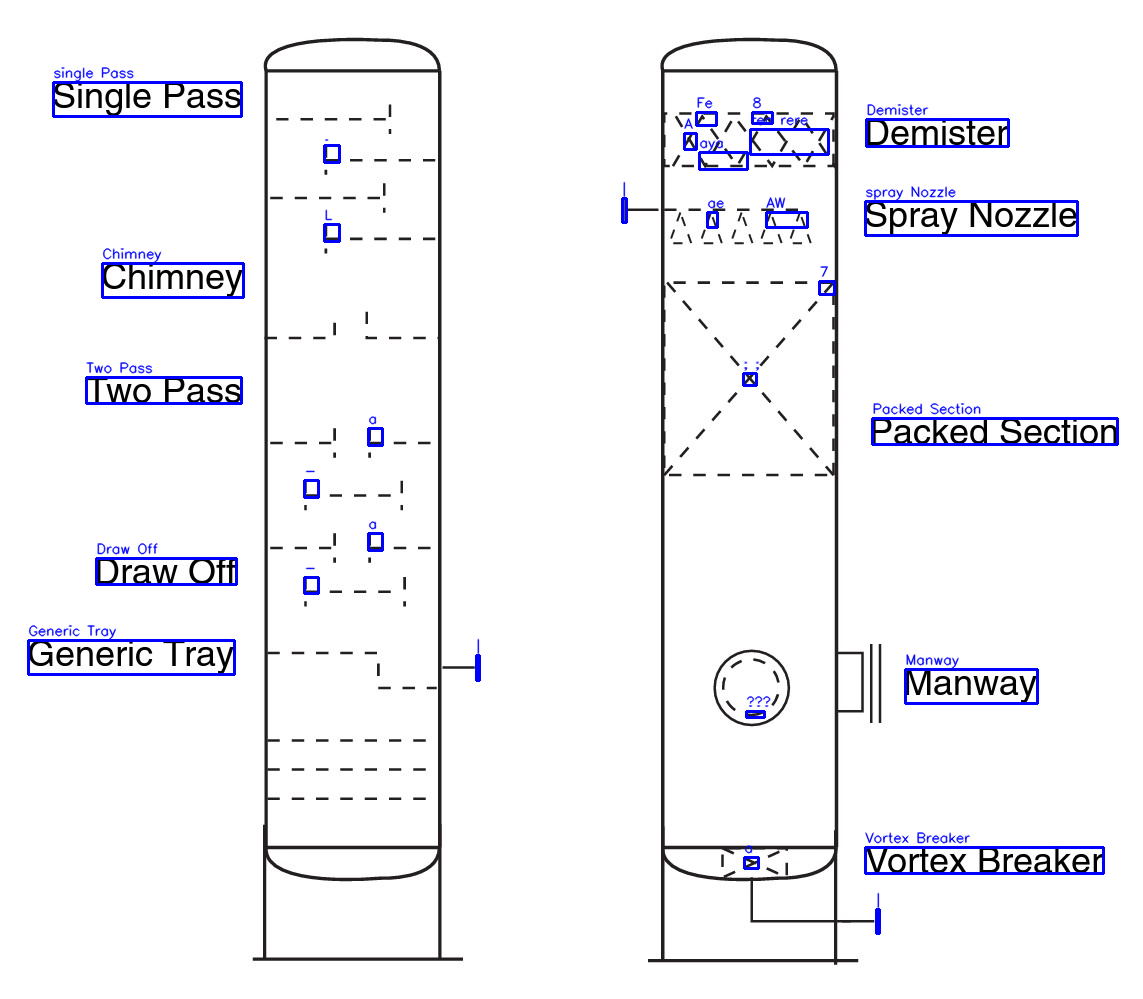Outro: (607, 30, 892, 974), (231, 30, 482, 967)
